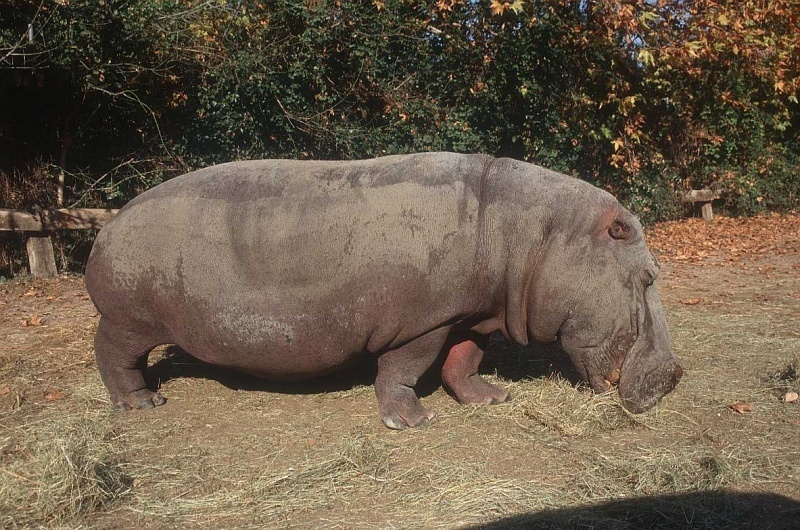hipopotamo: (72, 150, 690, 435)
